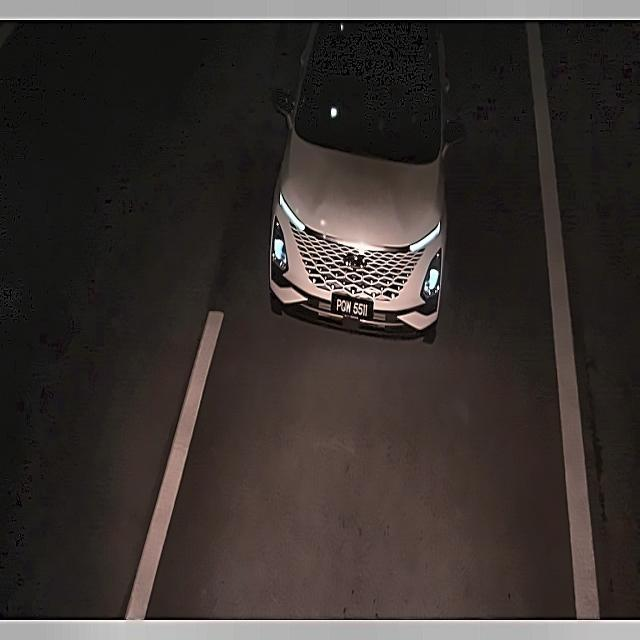car: (326, 288, 378, 329)
